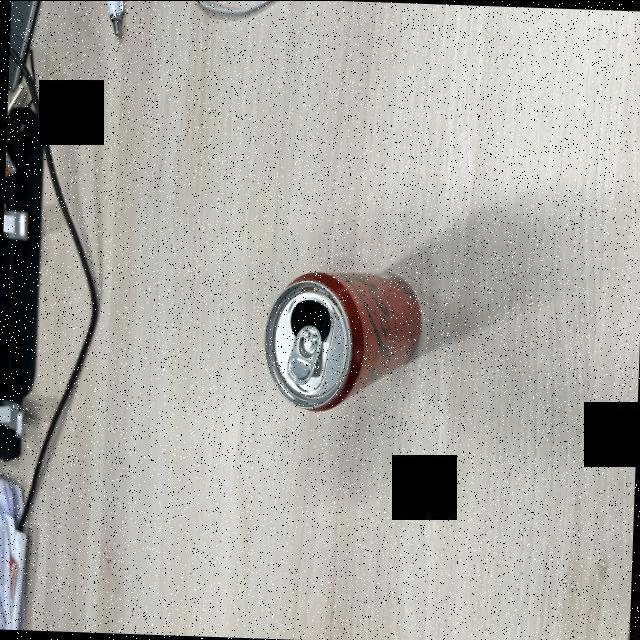can: (263, 271, 422, 412)
